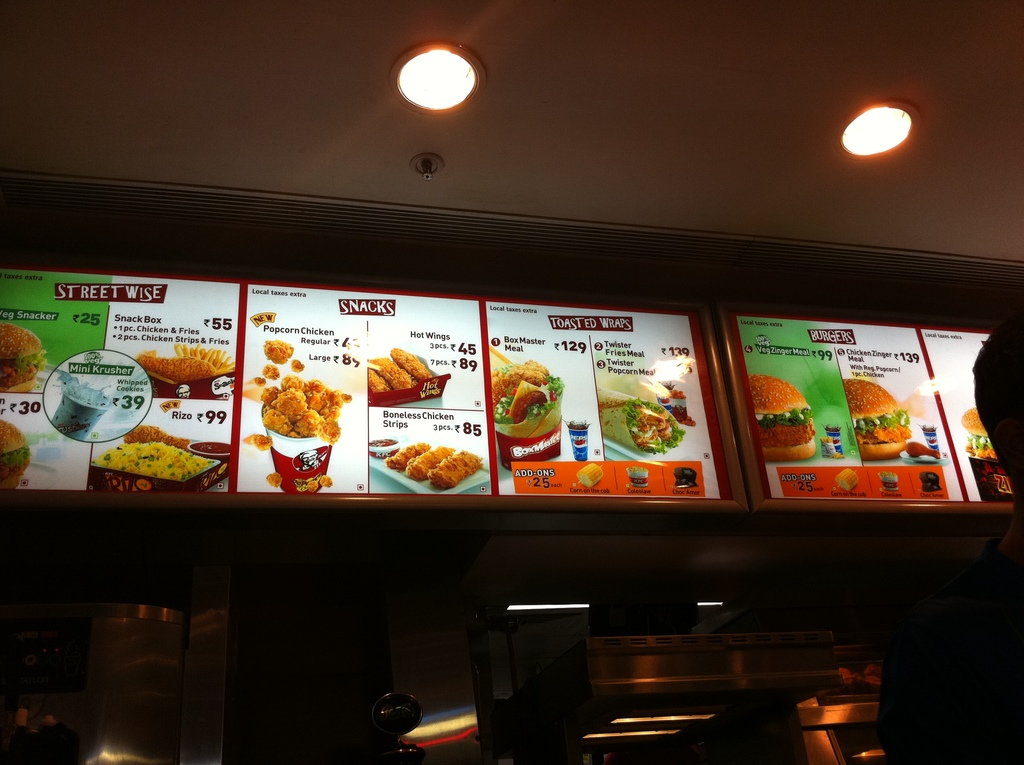Hamburger: (750, 370, 830, 459), (843, 378, 904, 457), (0, 322, 40, 387), (0, 415, 30, 493)
